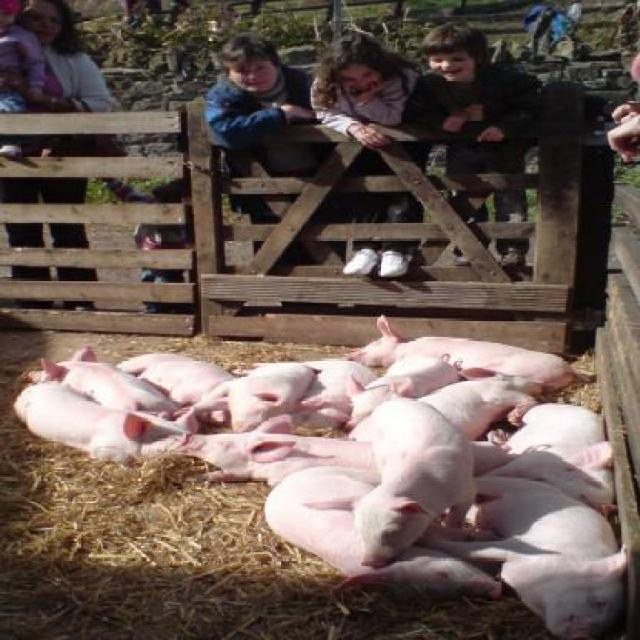pig: (12, 314, 628, 640)
